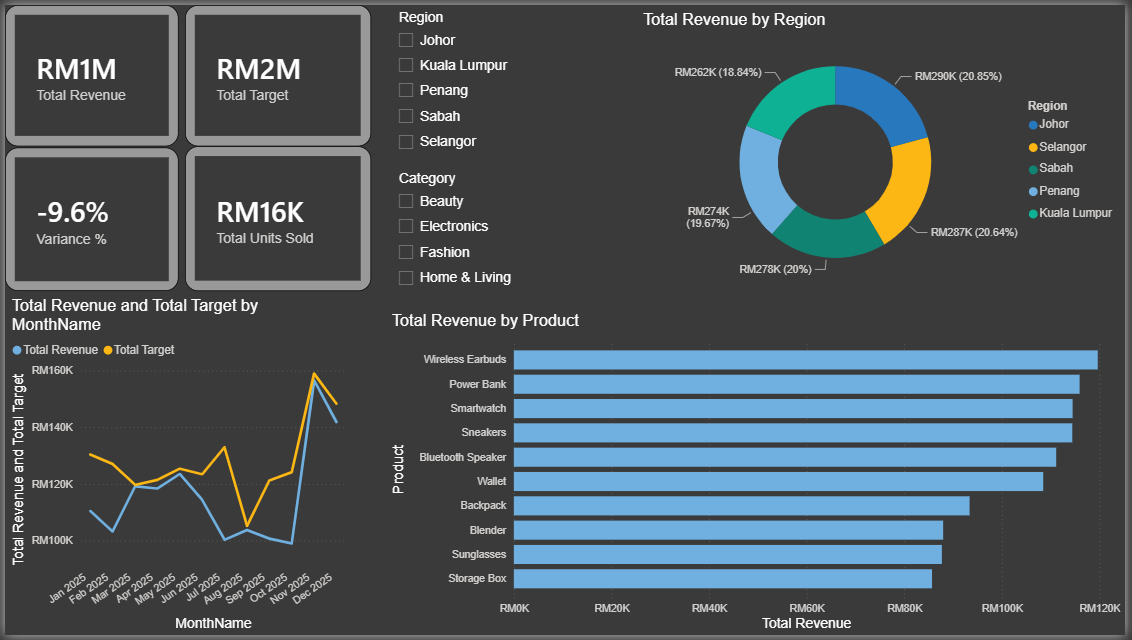

This screenshot's page, from the dashboard's own definition file:
{"tool":"powerbi","page":{"name":"Sales Overview","canvas":[1280,720],"ordinal":0},"visuals":[{"type":"cardVisual","fields":{"Data":["Sales_Transactions.Total Revenue"]},"box":[0,0,198.6,161.4],"z":0},{"type":"cardVisual","fields":{"Data":["Sales_Transactions.Total Target"]},"box":[205.7,0,212.9,161.4],"z":1000},{"type":"cardVisual","fields":{"Data":["Sales_Transactions.Variance %"]},"box":[0,162.9,198.6,164.3],"z":2000},{"type":"cardVisual","fields":{"Data":["Sales_Transactions.Total Units Sold"]},"box":[205.7,161.4,212.9,165.7],"z":3000},{"type":"lineChart","fields":{"Category":["DateTable.MonthName"],"Y":["Sales_Transactions.Total Revenue","Sales_Transactions.Total Target"]},"box":[2.9,332.9,391.4,387.1],"z":4000},{"type":"clusteredBarChart","fields":{"Category":["Sales_Transactions.Product"],"Y":["Sales_Transactions.Total Revenue"]},"box":[437.1,350,842.9,370],"z":5000},{"type":"donutChart","fields":{"Category":["Sales_Transactions.Region"],"Y":["Sales_Transactions.Total Revenue"]},"box":[724.3,5.7,555.7,327.1],"z":6000},{"type":"slicer","fields":{"Values":["Sales_Transactions.Region"]},"box":[437.1,0,244.3,182.9],"z":7000},{"type":"slicer","fields":{"Values":["Sales_Transactions.Category"]},"box":[437.1,184.3,244.3,148.6],"z":8000}]}

Visuals, with their boxes in screenshot pixels (x1, y1, x2, y2), scaled from the page's 1280x720 canvas onto the 1132x640 screenshot:
cardVisual - Sales_Transactions.Total Revenue: x1=0, y1=0, x2=176, y2=143
cardVisual - Sales_Transactions.Total Target: x1=182, y1=0, x2=370, y2=143
cardVisual - Sales_Transactions.Variance %: x1=0, y1=145, x2=176, y2=291
cardVisual - Sales_Transactions.Total Units Sold: x1=182, y1=143, x2=370, y2=291
lineChart - DateTable.MonthName x Sales_Transactions.Total Revenue: x1=3, y1=296, x2=349, y2=639
clusteredBarChart - Sales_Transactions.Product x Sales_Transactions.Total Revenue: x1=387, y1=311, x2=1131, y2=639
donutChart - Sales_Transactions.Region x Sales_Transactions.Total Revenue: x1=641, y1=5, x2=1131, y2=296
slicer - Sales_Transactions.Region: x1=387, y1=0, x2=603, y2=163
slicer - Sales_Transactions.Category: x1=387, y1=164, x2=603, y2=296
